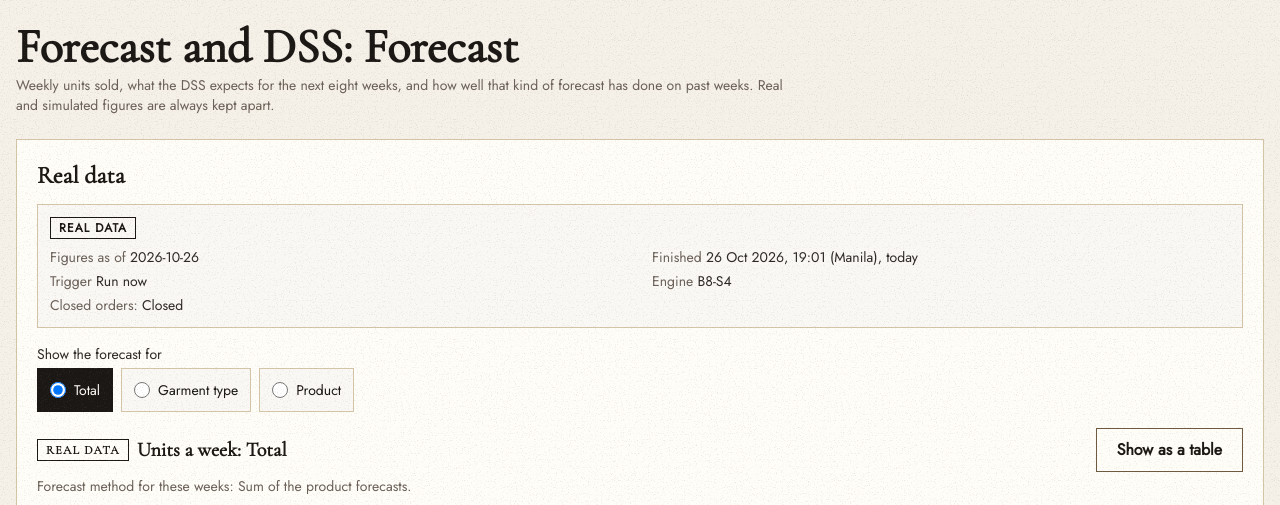
it: ForecastPage › changes the explanation and the recommendations with the selected view
Click the radio button labelled "Product" at coordinates (280, 390), box [272, 382, 288, 398]
(page scrolled)
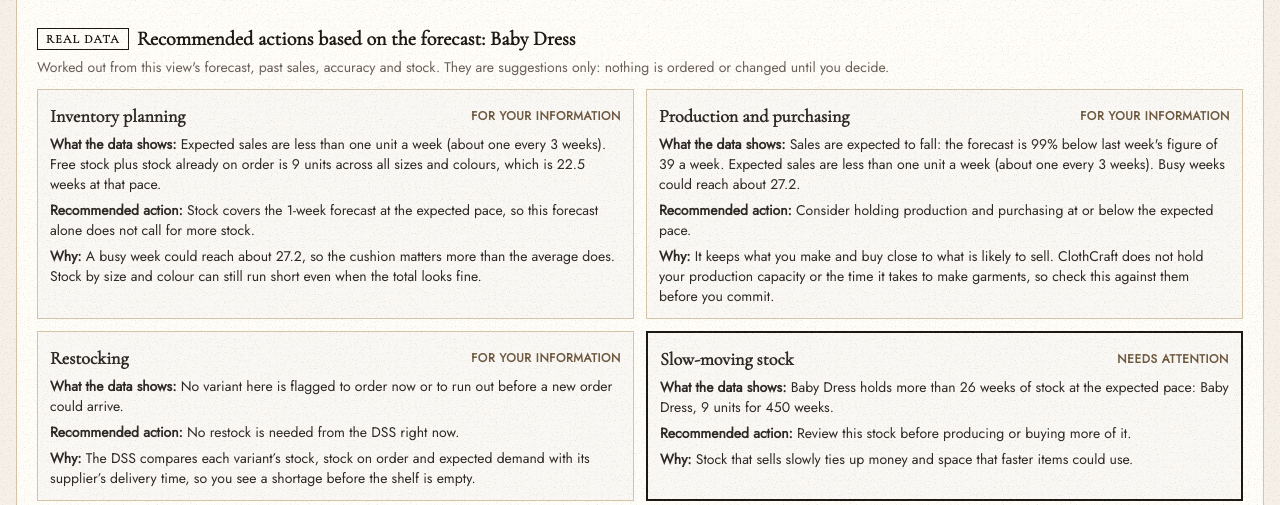
Expected: the element with test id "recommendations" shows "Baby Dress", [490, 27, 576, 51]
